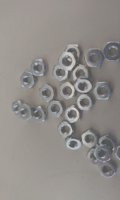nut: (93, 82, 113, 101), (98, 161, 118, 179), (85, 49, 104, 67), (82, 130, 100, 149), (75, 94, 93, 112), (39, 84, 57, 102), (31, 59, 48, 78), (104, 42, 120, 62), (75, 77, 93, 94), (59, 82, 76, 100), (53, 64, 70, 82), (48, 101, 65, 119), (64, 106, 81, 124), (95, 147, 113, 164), (59, 52, 75, 71), (72, 65, 89, 82), (65, 45, 82, 62), (58, 122, 75, 139), (85, 149, 102, 166), (21, 72, 37, 89), (32, 106, 47, 124), (18, 104, 33, 122), (100, 135, 116, 151), (65, 136, 81, 151), (12, 100, 22, 117), (115, 144, 120, 162)
